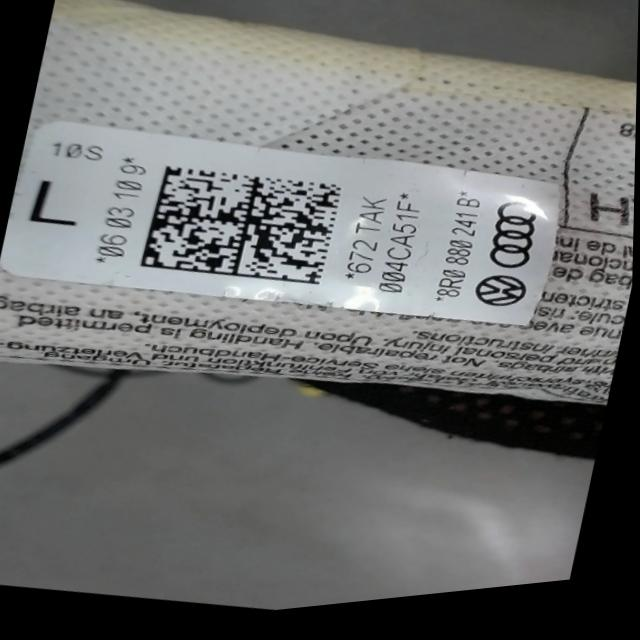datamatrix: (141, 154, 346, 308)
